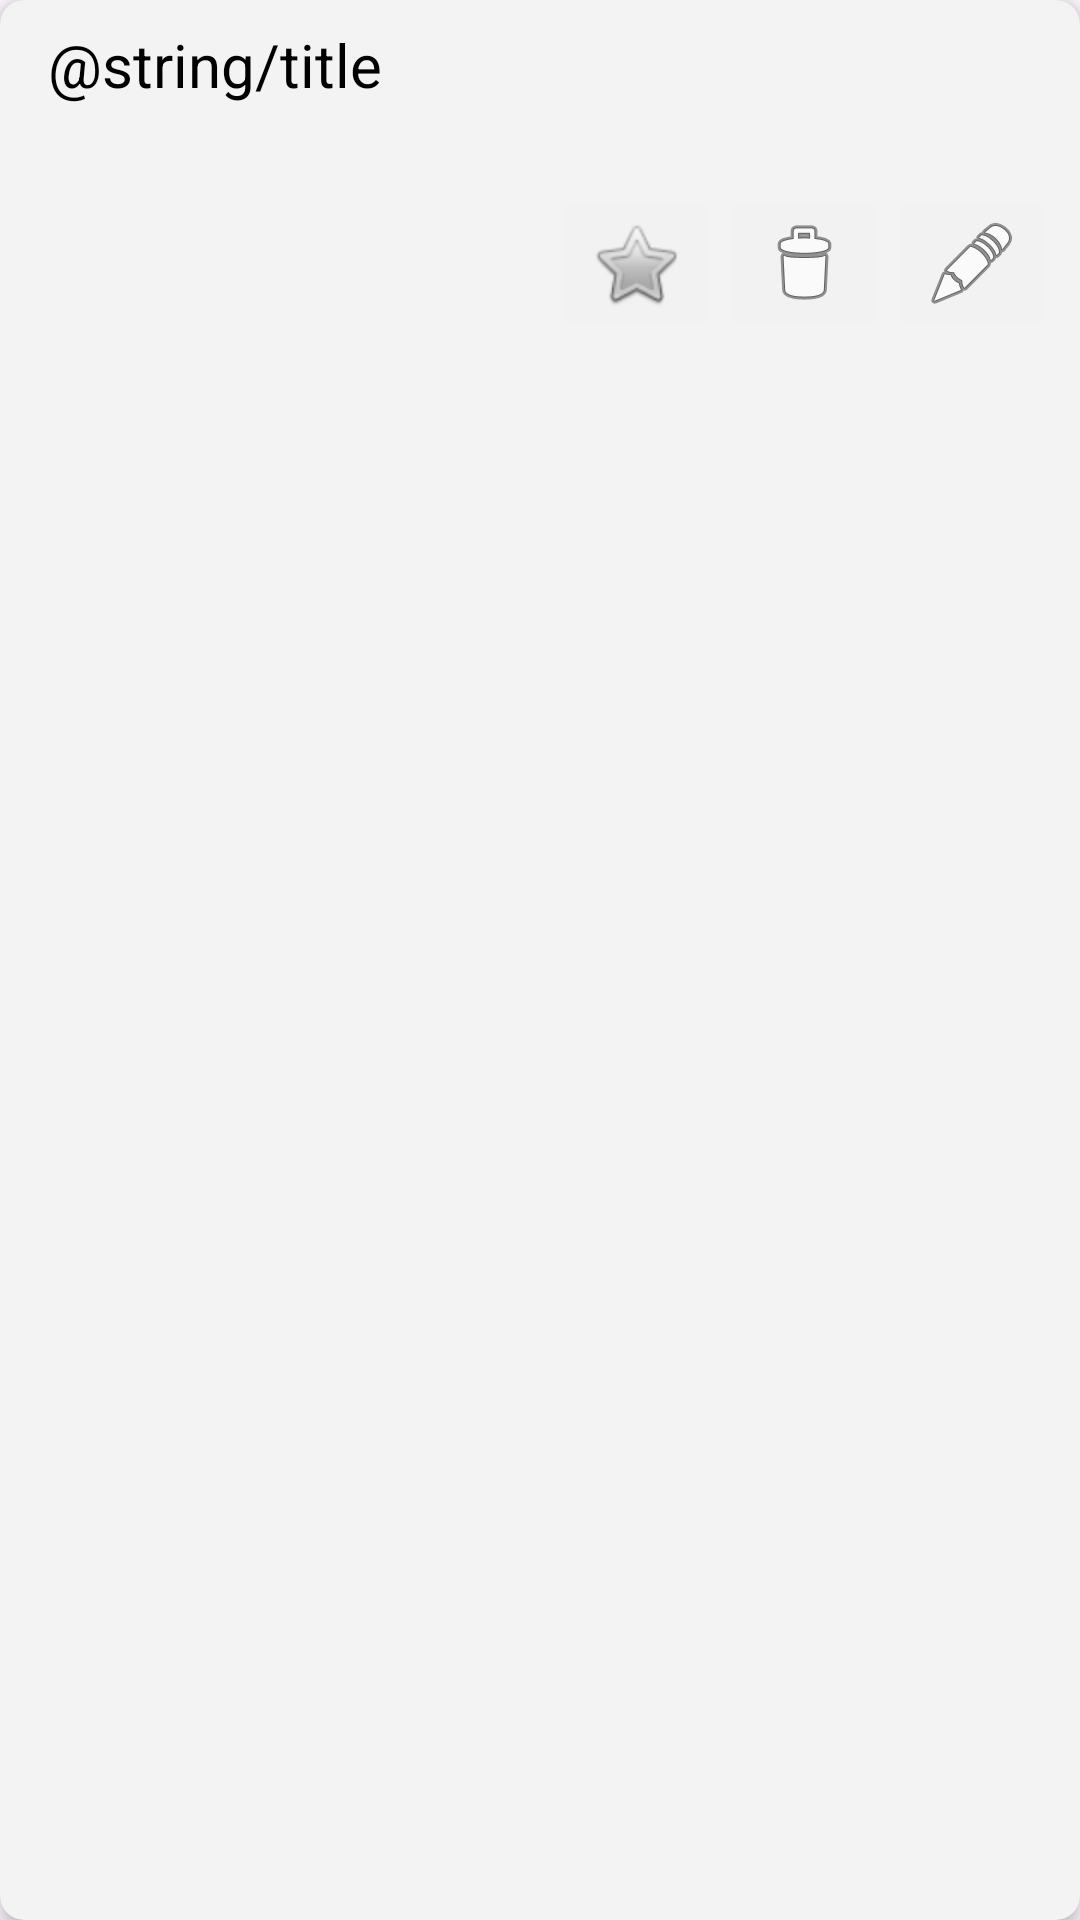

Where icons sit on this 1080 x 1920 app screen, as (x1, y1, x2, y2):
delete: (777, 225, 832, 300)
edit: (931, 223, 1012, 304)
star off: (597, 226, 677, 304)
